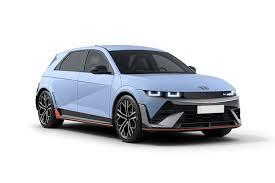hyundai: (197, 85, 212, 91)
